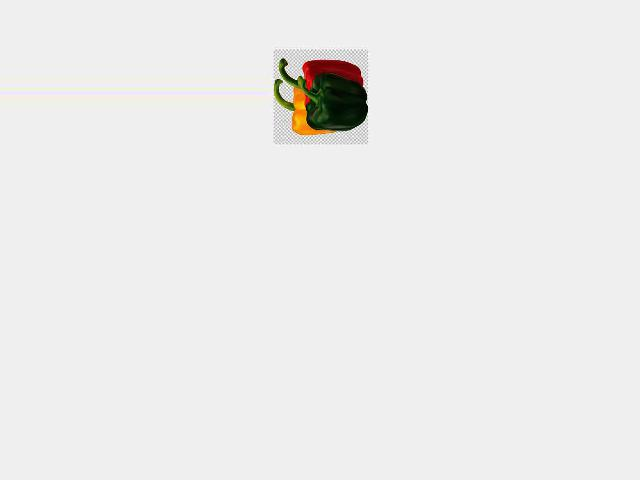bell_pepper: (276, 48, 365, 103)
